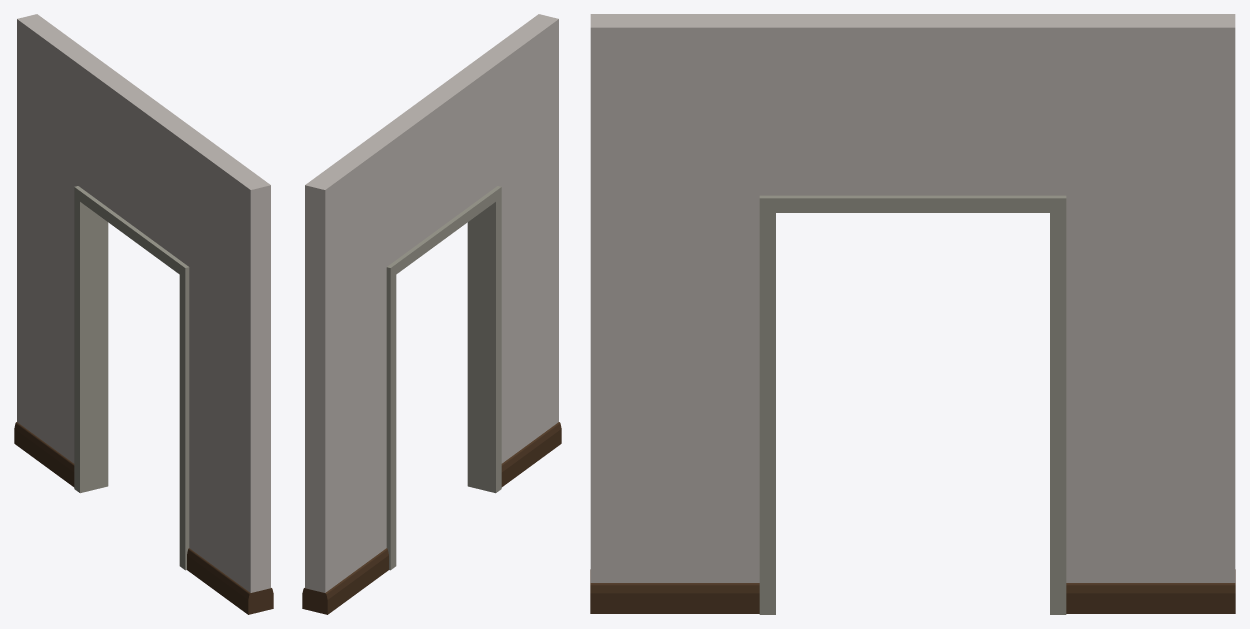
File: Modular_Wall_Wall-door.fbx
3 views of the same model, side by side, from view 1: azimuth 30°, elevation 25°; view 2: azimuth 150°, elevation 25°; view 3: azimuth 270°, elevation 25° (orthographic). The views are drawn at different scales.
Parts seen in each view (by area): view 1: wall-door; view 2: wall-door; view 3: wall-door.
Part boxes in pixels (left/top/right/bottom): wall-door: left=14, top=14, right=273, bottom=614; wall-door: left=302, top=14, right=561, bottom=614; wall-door: left=590, top=14, right=1235, bottom=614.
Size of the model in its own units: 14 by 200 by 200.
